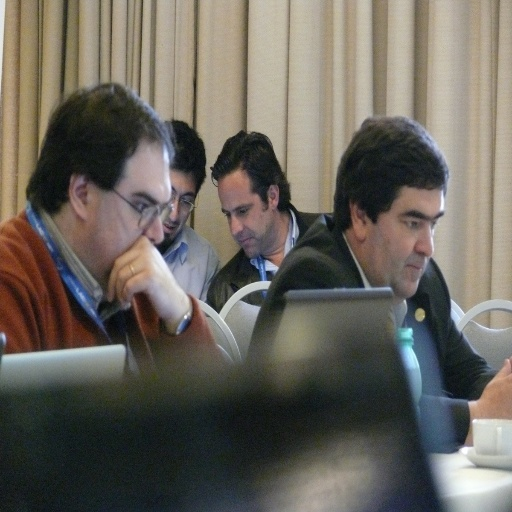hand: (89, 224, 182, 336), (478, 354, 511, 418)
